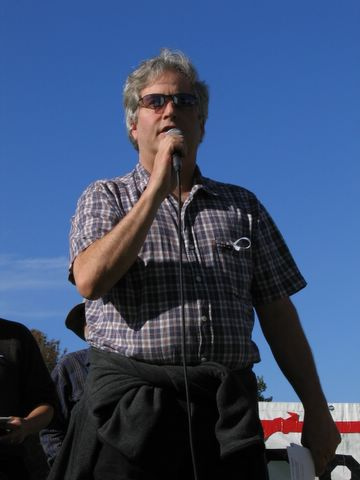person: (68, 56, 341, 476), (1, 319, 59, 480), (41, 303, 91, 471)
